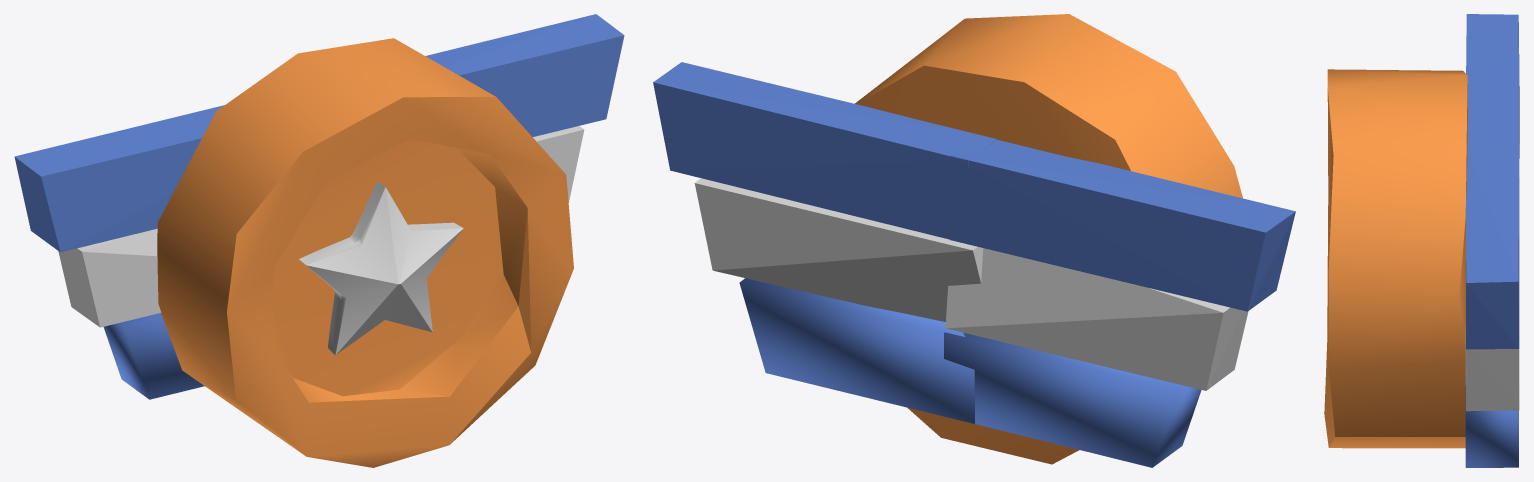
The model's file is trailblazer.fbx.
3 views of the same model, side by side, from view 1: azimuth 30°, elevation 25°; view 2: azimuth 150°, elevation 25°; view 3: azimuth 270°, elevation 25° (orthographic). The views are drawn at different scales.
Visible parts, largest first — view 1: Cylinder.003, Cube, Star, Cube.001, Cube.002; view 2: Cube, Cube.001, Cylinder.003, Cube.002; view 3: Cylinder.003, Cube, Cube.001, Cube.002.
Boxes of the visible parts, bbox=[...] form: Cylinder.003: bbox=[157, 38, 573, 467]; Cube: bbox=[14, 14, 624, 252]; Star: bbox=[299, 182, 463, 355]; Cube.001: bbox=[58, 126, 584, 327]; Cube.002: bbox=[103, 313, 204, 399]; Cube: bbox=[653, 62, 1295, 311]; Cube.001: bbox=[694, 178, 1248, 390]; Cylinder.003: bbox=[855, 14, 1242, 464]; Cube.002: bbox=[739, 278, 1201, 467]; Cylinder.003: bbox=[1324, 69, 1467, 448]; Cube: bbox=[1466, 14, 1519, 349]; Cube.001: bbox=[1465, 322, 1519, 411]; Cube.002: bbox=[1465, 386, 1518, 467].
Size of the model in its own units: 932 by 561 by 287.
